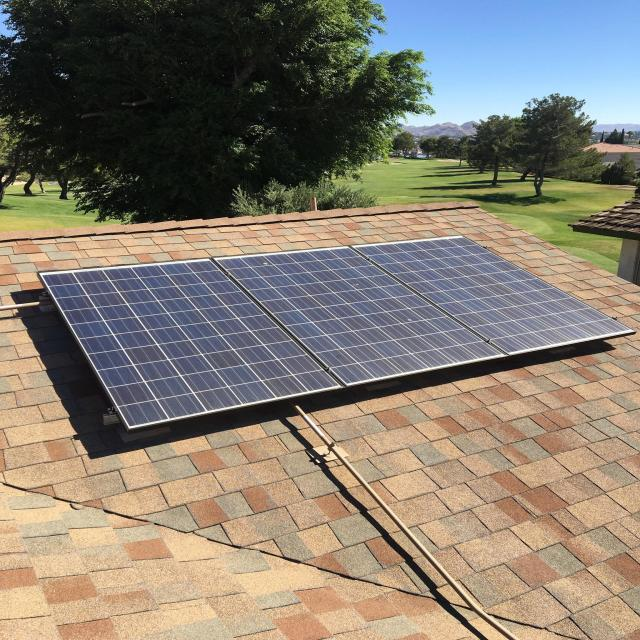dust-solar-panel: (42, 238, 633, 433)
